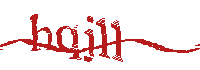h: (29, 15, 54, 52)
j: (83, 16, 96, 64)
l: (96, 17, 111, 61), (111, 20, 125, 63)
q: (56, 24, 80, 60)
